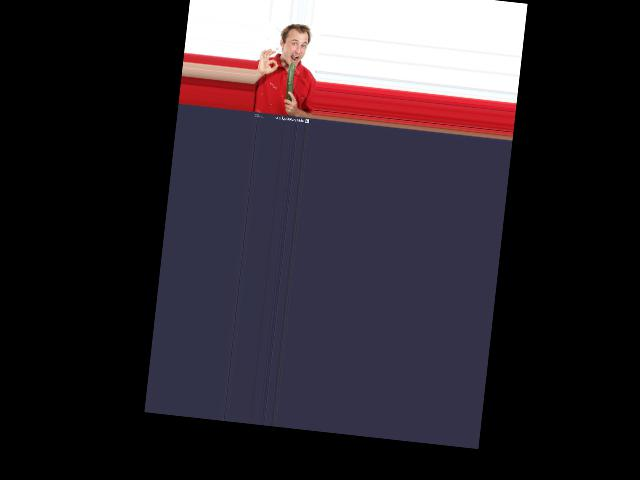cucumber: (285, 62, 295, 100)
